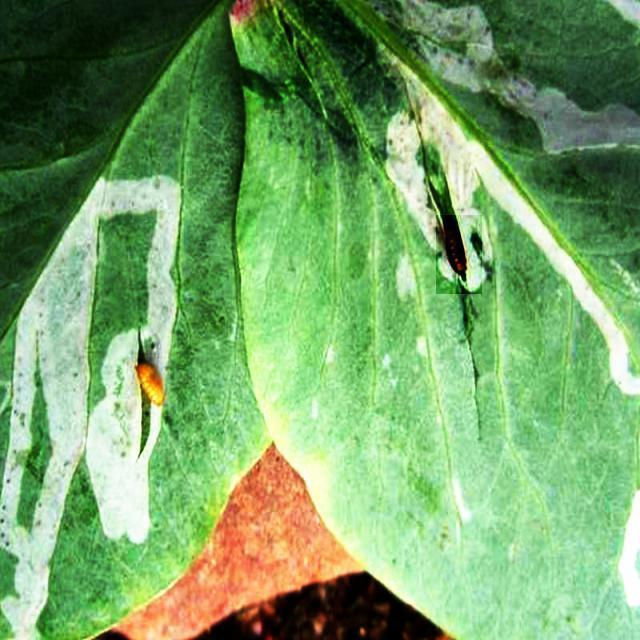whorl-maggot: (436, 215, 482, 294), (129, 355, 171, 416)
